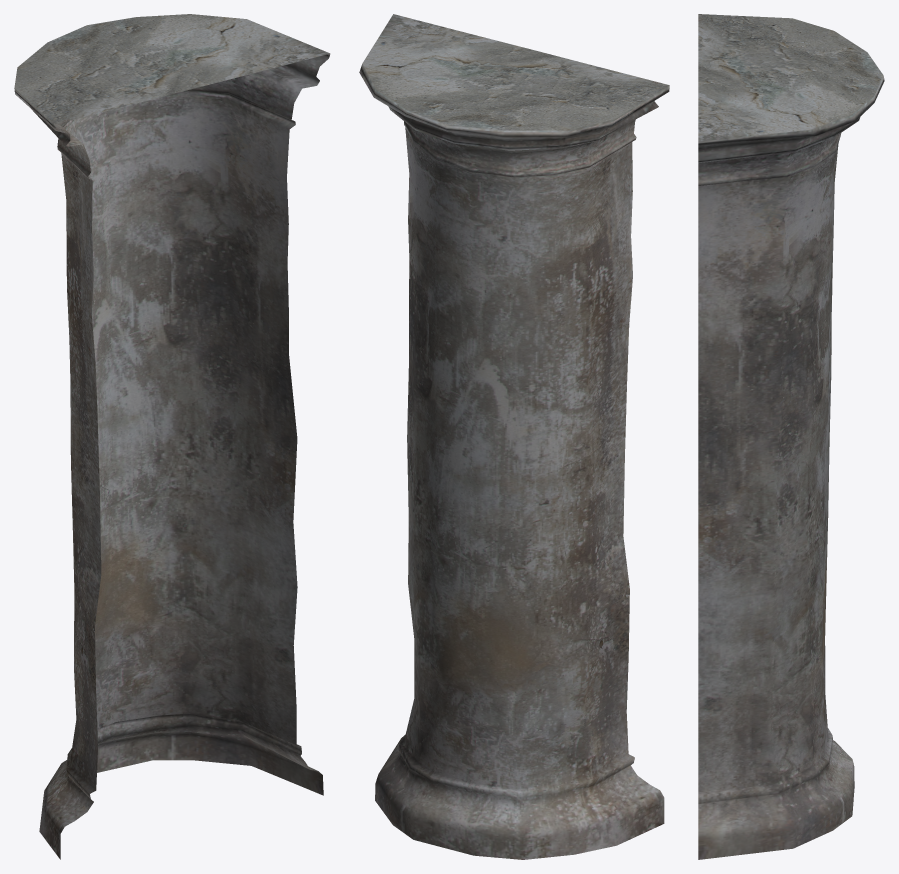
File: SM_CryptColumn_01_01.fbx
3 renders of one model, left to right at view 1: azimuth 30°, elevation 25°; view 2: azimuth 150°, elevation 25°; view 3: azimuth 270°, elevation 25°, orthographic. The views are drawn at different scales.
Visible parts, largest first — view 1: sm_CryptColumn_01_01_LOD0; view 2: sm_CryptColumn_01_01_LOD0; view 3: sm_CryptColumn_01_01_LOD0.
Boxes of the visible parts, x1,y1,x2,y2 form: sm_CryptColumn_01_01_LOD0: [14, 14, 330, 859]; sm_CryptColumn_01_01_LOD0: [359, 14, 669, 859]; sm_CryptColumn_01_01_LOD0: [698, 14, 884, 859].
Bounding box in the file's own units: 44.16 × 73.44 × 189.
